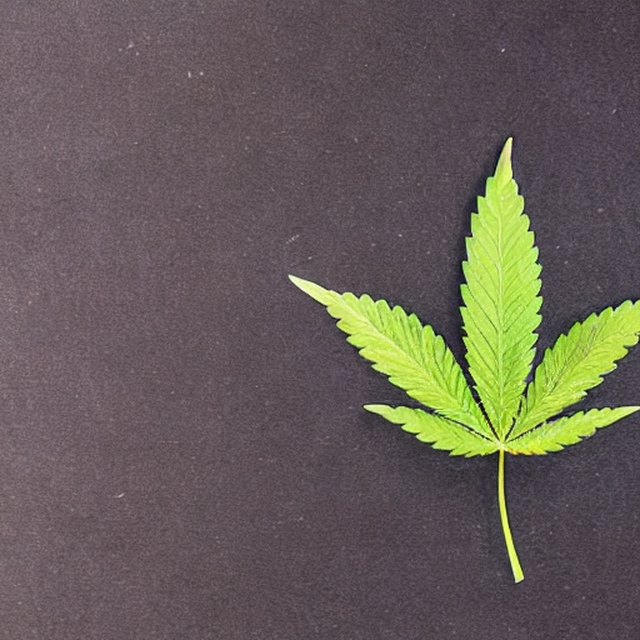Marijuana Leaf: (286, 134, 639, 583)
